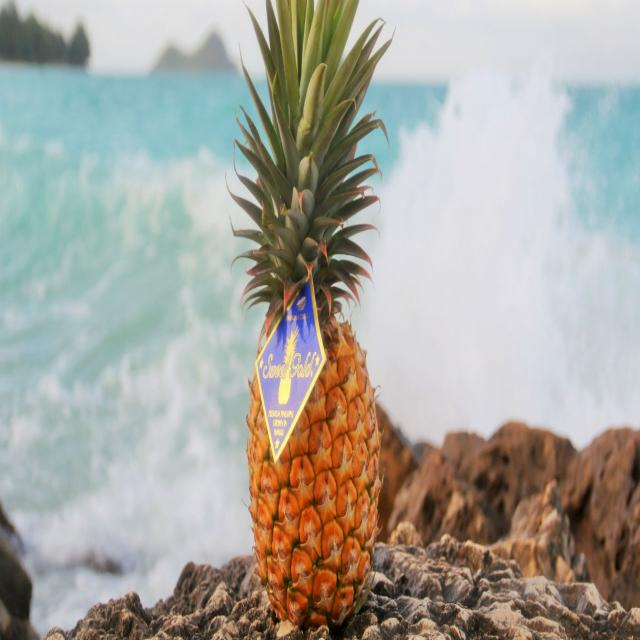pineapple: (233, 198, 383, 624)
